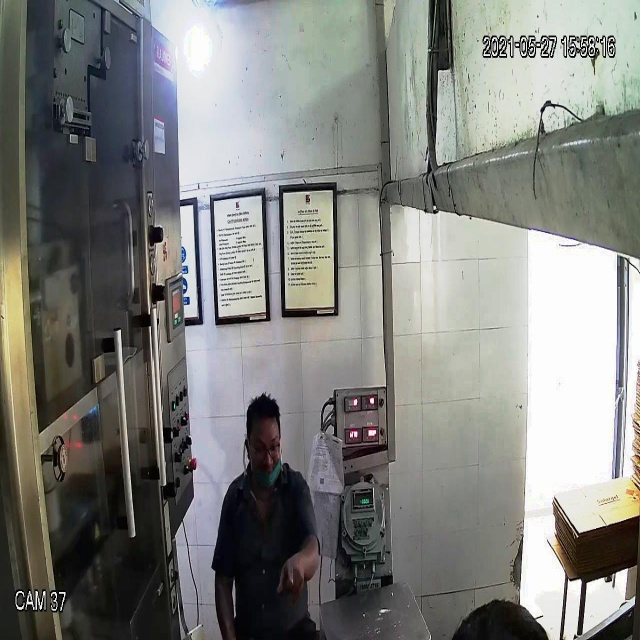Gafas: (240, 432, 287, 463)
